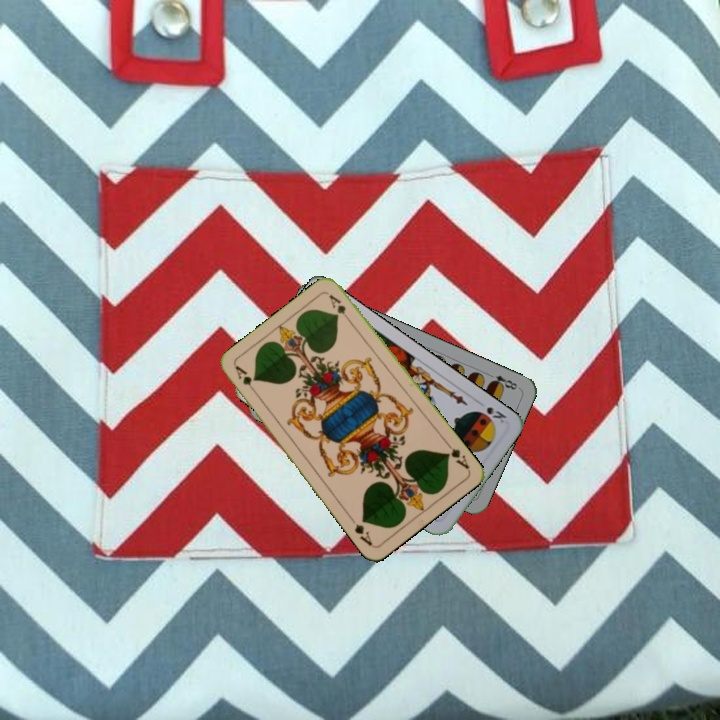E8: (483, 369, 522, 392)
GA: (441, 438, 472, 472), (231, 362, 260, 397)
SK: (482, 403, 509, 426)
